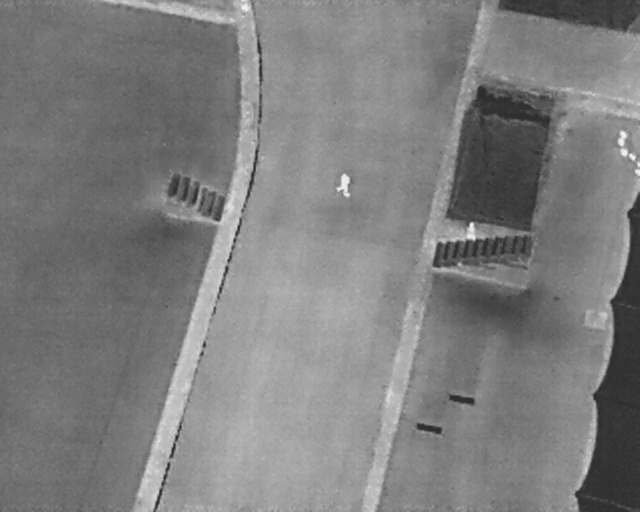Person: (336, 170, 352, 200), (467, 222, 477, 242), (240, 0, 250, 15)
